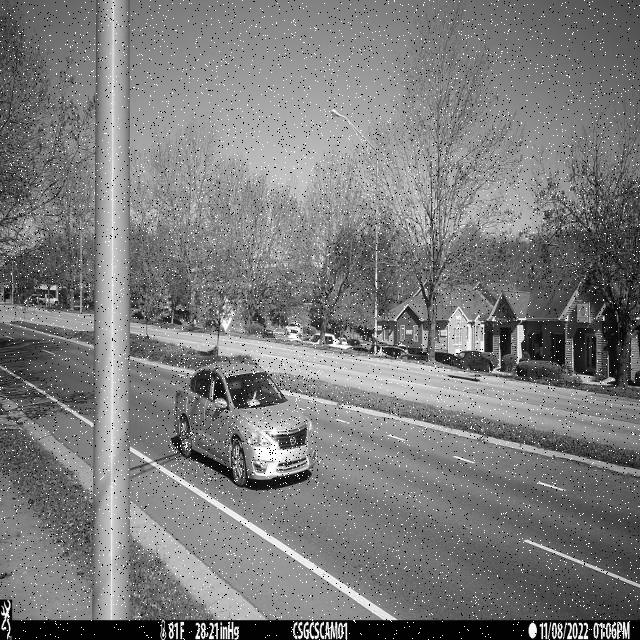Sedan: (172, 358, 318, 487)
